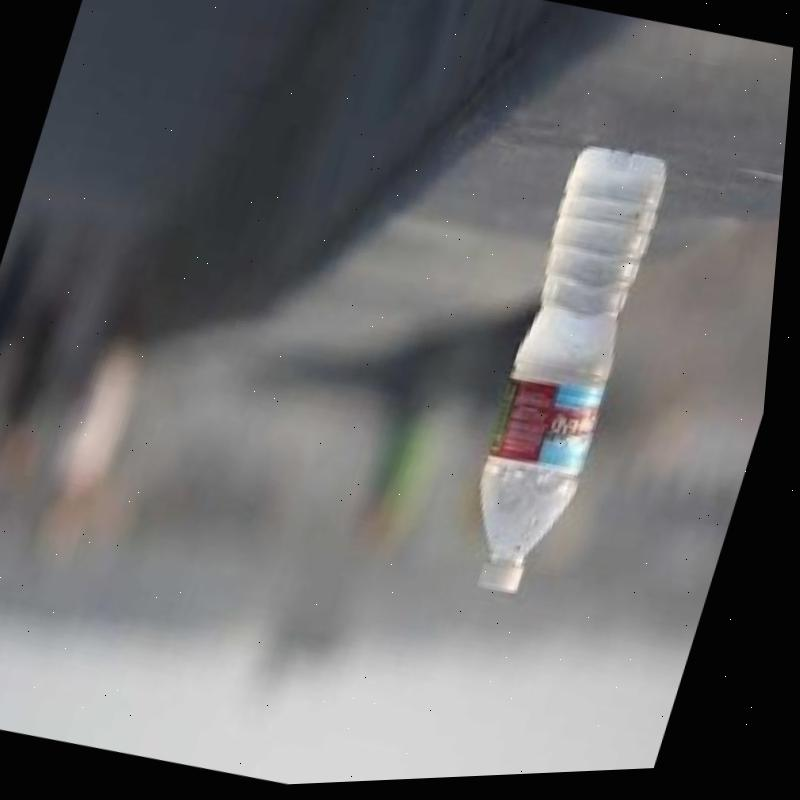botella: (445, 137, 691, 615)
